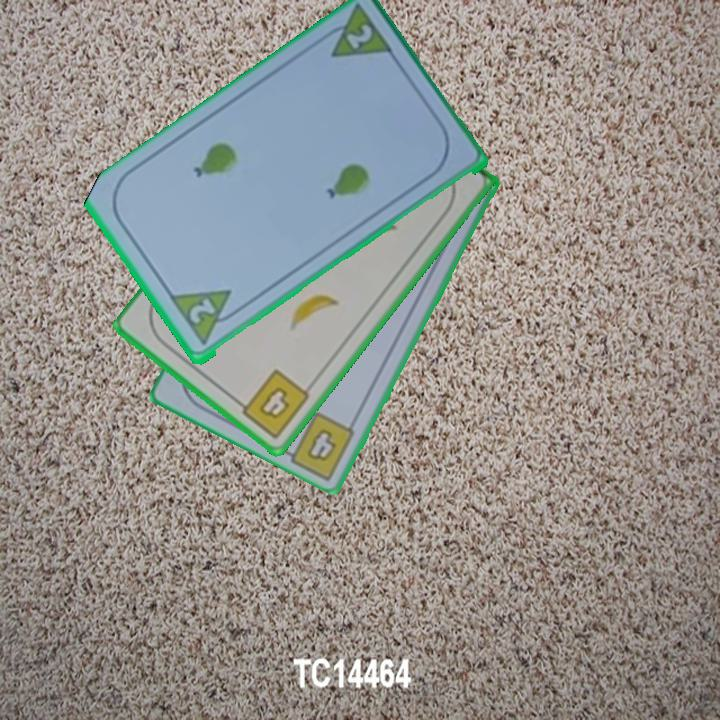2p: (315, 3, 397, 62), (185, 295, 219, 328)
4b: (231, 366, 313, 442), (303, 425, 340, 465)
